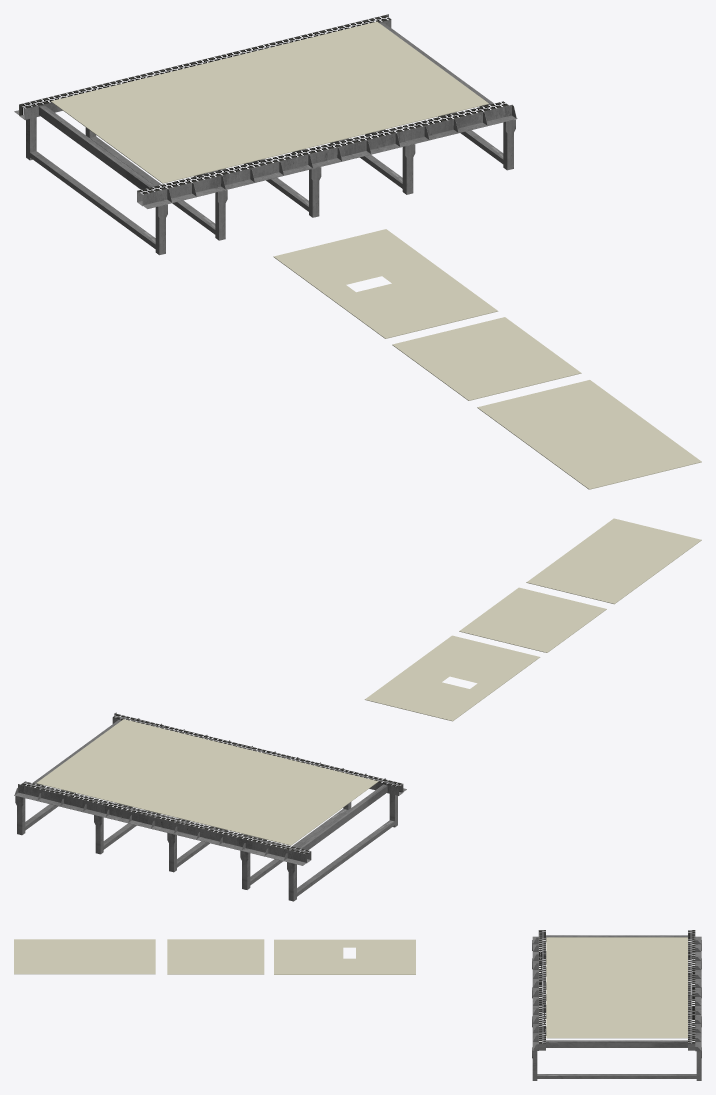
File: CaiTaBan.FBX
The picture shows the model from 3 angles, top to bottom: view 1: azimuth 30°, elevation 25°; view 2: azimuth 150°, elevation 25°; view 3: azimuth 270°, elevation 25°; orthographic projection. The views are drawn at different scales.
Visible parts, largest first — view 1: YF_Model_CaiTaBan004, YF_Model_liushui008, YF_Model_CaiTaBan001, YF_Model_CaiTaBan003, YF_Model_CaiTaBan002; view 2: YF_Model_CaiTaBan004, YF_Model_liushui008, YF_Model_CaiTaBan001, YF_Model_CaiTaBan003, YF_Model_CaiTaBan002; view 3: YF_Model_CaiTaBan004, YF_Model_liushui008, YF_Model_CaiTaBan001, YF_Model_CaiTaBan003, YF_Model_CaiTaBan002.
Boxes of the visible parts, box(x1,y1,x2,y2) form: YF_Model_CaiTaBan004: box(51, 21, 488, 183); YF_Model_liushui008: box(14, 14, 517, 255); YF_Model_CaiTaBan001: box(477, 380, 701, 489); YF_Model_CaiTaBan003: box(273, 229, 498, 338); YF_Model_CaiTaBan002: box(392, 317, 581, 400); YF_Model_CaiTaBan004: box(36, 719, 378, 845); YF_Model_liushui008: box(14, 712, 406, 901); YF_Model_CaiTaBan001: box(526, 518, 701, 604); YF_Model_CaiTaBan003: box(364, 635, 540, 721); YF_Model_CaiTaBan002: box(459, 587, 606, 652); YF_Model_CaiTaBan004: box(546, 937, 687, 1038); YF_Model_liushui008: box(532, 930, 701, 1080); YF_Model_CaiTaBan001: box(14, 939, 155, 974); YF_Model_CaiTaBan003: box(274, 939, 415, 974); YF_Model_CaiTaBan002: box(167, 939, 264, 974).
Bounding box in the file's own units: 327 × 51.36 × 831.
